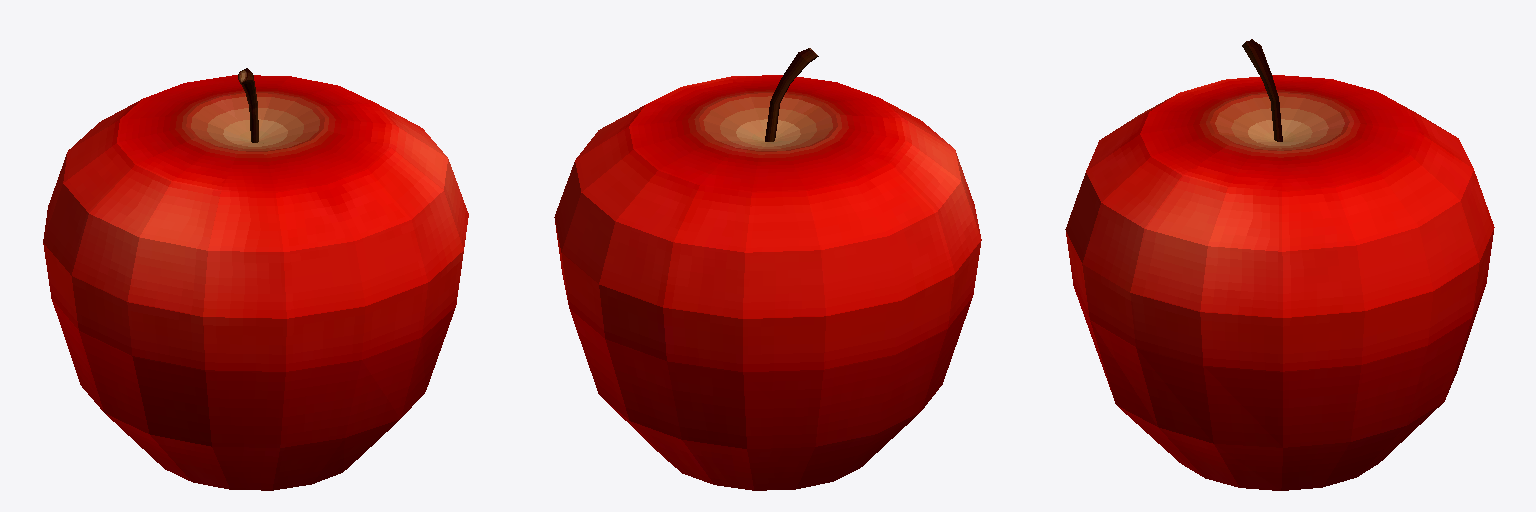
3 views of the same model, side by side, from view 1: azimuth 30°, elevation 25°; view 2: azimuth 150°, elevation 25°; view 3: azimuth 270°, elevation 25° (orthographic).
Visible parts, largest first — view 1: Object_Apple_Texture.jpg; view 2: Object_Apple_Texture.jpg; view 3: Object_Apple_Texture.jpg.
Boxes of the visible parts, x1=… form: Object_Apple_Texture.jpg: x1=43, y1=68, x2=468, y2=490; Object_Apple_Texture.jpg: x1=554, y1=48, x2=981, y2=490; Object_Apple_Texture.jpg: x1=1065, y1=39, x2=1494, y2=490.
Size of the model in its own units: 2.39 by 2.5 by 2.39.
Materials: 2 (1 with a texture image).